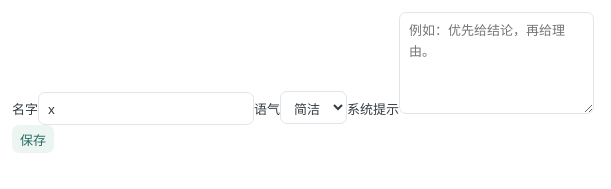
profile form › shows a server error
Expected: the field showing "x" is shown, [38,92,254,125]
Click the button "保存" at (33, 139), box [12,125,54,153]
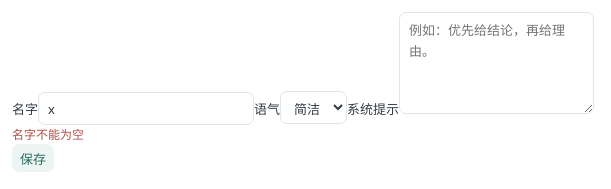
Expected: the text "名字不能为空" is shown, [12,126,84,143]
